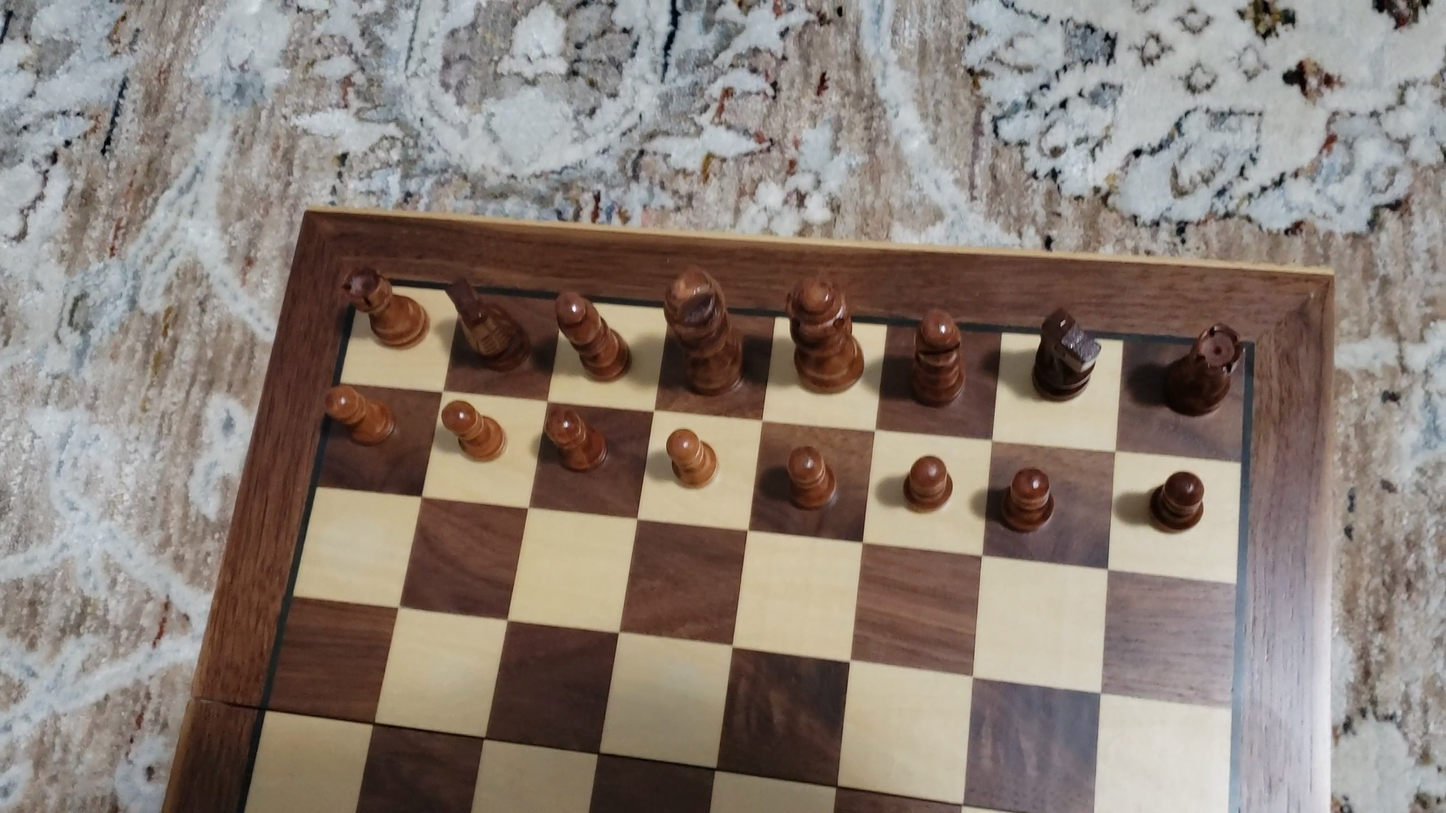black-bishop: (551, 287, 632, 383), (911, 302, 966, 410)
black-king: (660, 260, 749, 398)
black-knight: (441, 268, 533, 374), (1027, 303, 1103, 404)
black-pawn: (321, 381, 397, 448), (542, 403, 611, 474), (437, 397, 507, 465), (996, 463, 1058, 536), (781, 441, 840, 514), (1146, 467, 1209, 535), (664, 424, 718, 491), (902, 452, 956, 516)
black-queen: (782, 269, 866, 396)
black-rook: (1161, 321, 1246, 418), (341, 263, 427, 349)
